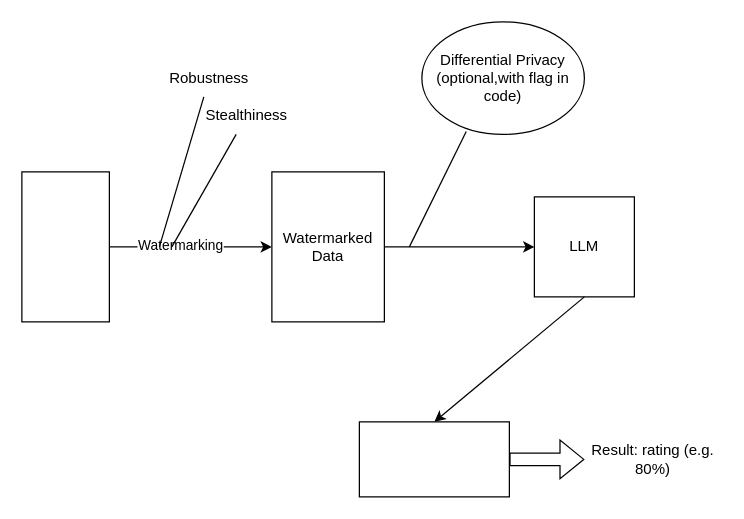
Image size: 744x519. Some labels were removed from this diagram. The centre of each missing label's shape, as x and y in pixels:
"Data" goes at (x=65, y=246).
"Membership Inference Attacks" goes at (x=433, y=459).
